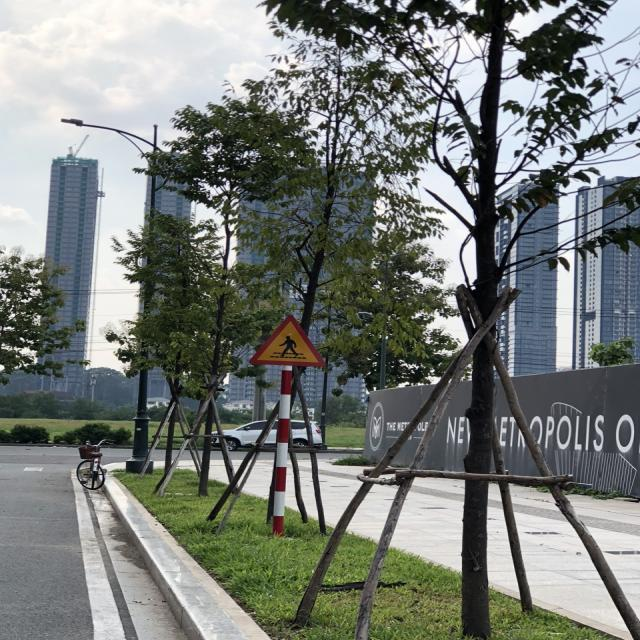Bien bao duong nguoi di bo cat ngang: (243, 307, 340, 374)
